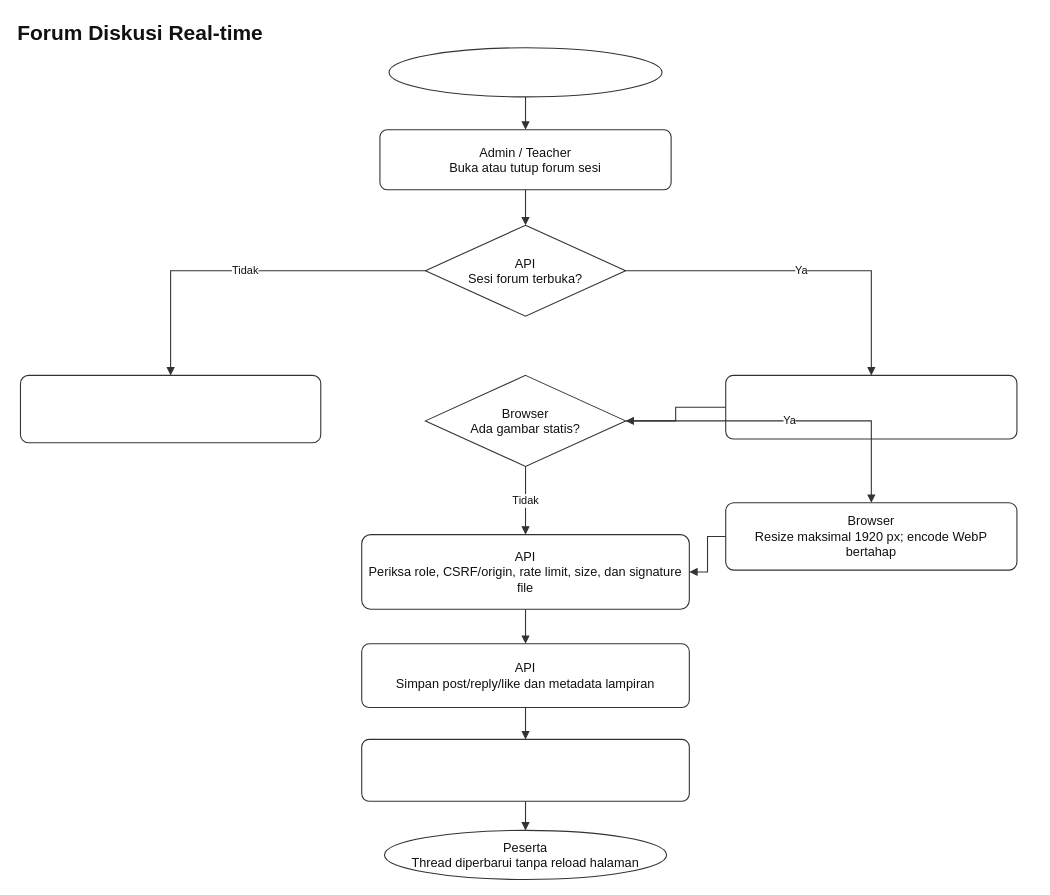
This 1050x895 diagram has some shape labels left out. The shapes that lost their labels are listed below. From the top down, each one's box as (x1, y1, x2, y2) in pixels, then its label:
(388, 47, 662, 97): Admin / Teacher Pilih course dan sesi forum
(19, 374, 321, 443): Peserta Forum tertutup: baca saja; aksi tulis ditolak
(725, 374, 1017, 439): Student / Staff Tulis thread atau balasan; beri like
(361, 738, 689, 801): SSE Kirim event ke peserta yang tersambung
